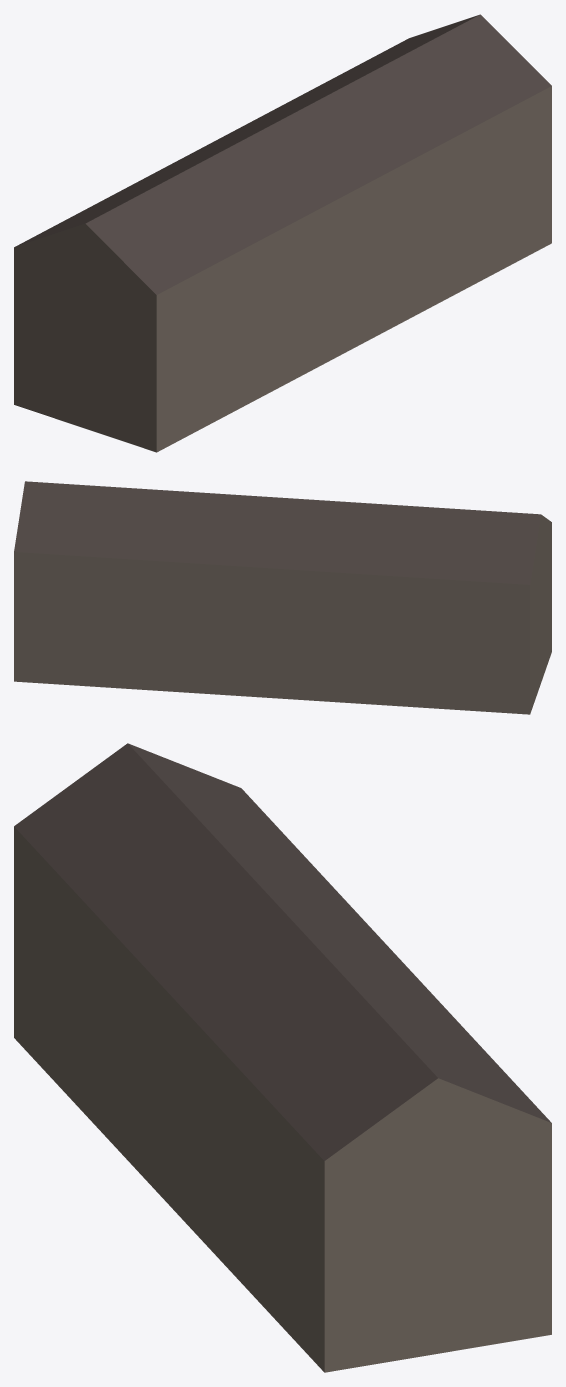
The picture shows the model from 3 angles, top to bottom: view 1: azimuth 30°, elevation 25°; view 2: azimuth 150°, elevation 25°; view 3: azimuth 270°, elevation 25°; orthographic projection. The views are drawn at different scales.
Visible parts, largest first — view 1: HP-w372180487; view 2: HP-w372180487; view 3: HP-w372180487.
Part boxes in pixels (<box>): HP-w372180487: <box>14,14,551,452</box>; HP-w372180487: <box>14,481,551,714</box>; HP-w372180487: <box>14,743,551,1372</box>.
Size of the model in its own units: 34.04 by 11.72 by 20.74.
